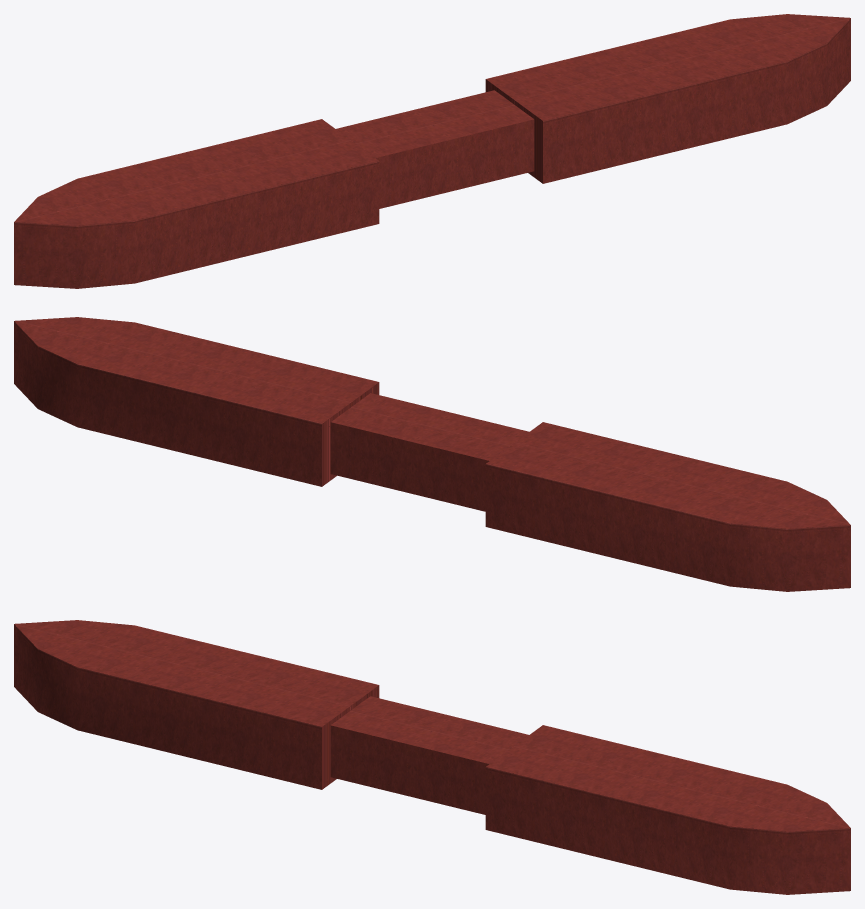
The model's file is OPONT01.glb.
3 views of the same model, one above another, from view 1: azimuth 30°, elevation 25°; view 2: azimuth 150°, elevation 25°; view 3: azimuth 330°, elevation 25° (orthographic).
Parts seen in each view (by area): view 1: _OPONT01; view 2: _OPONT01; view 3: _OPONT01.
Part boxes in pixels (x1=…): _OPONT01: x1=14, y1=14, x2=850, y2=288; _OPONT01: x1=14, y1=317, x2=850, y2=591; _OPONT01: x1=14, y1=620, x2=850, y2=894.
Size of the model in its own units: 68.99 by 4.96 by 8.18.
1 material, 1 textured.
